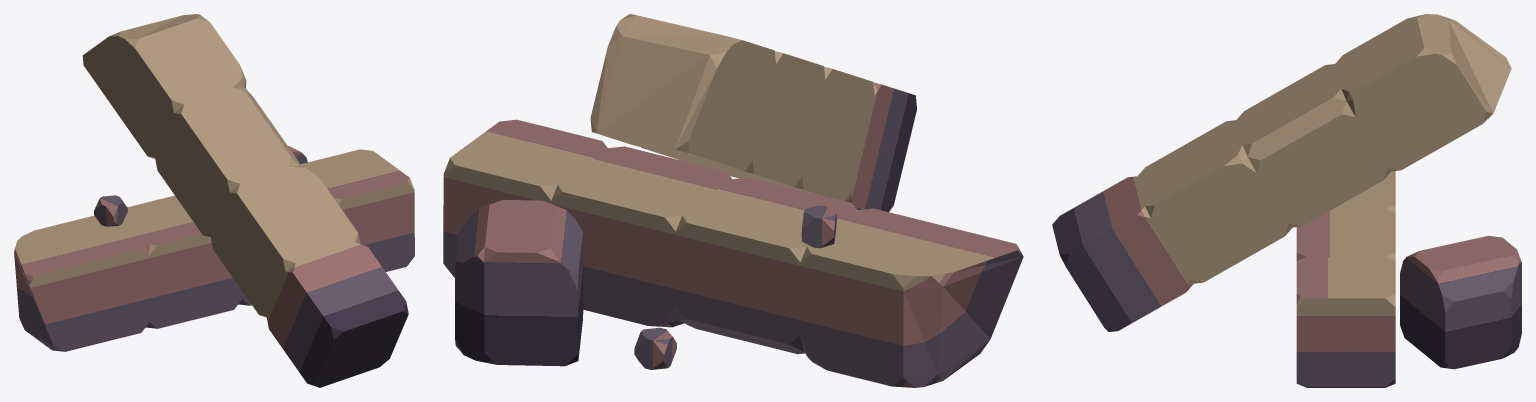
File: Fallen Pillar 2.002.fbx
3 views of the same model, side by side, from view 1: azimuth 30°, elevation 25°; view 2: azimuth 150°, elevation 25°; view 3: azimuth 270°, elevation 25° (orthographic). The views are drawn at different scales.
Visible parts, largest first — view 1: Fallen Pillar 2.002; view 2: Fallen Pillar 2.002; view 3: Fallen Pillar 2.002.
Part boxes in pixels (<box>): Fallen Pillar 2.002: <box>14,14,414,387</box>; Fallen Pillar 2.002: <box>443,14,1023,387</box>; Fallen Pillar 2.002: <box>1052,14,1521,387</box>.
Bounding box in the file's own units: 416 × 260 × 411.
